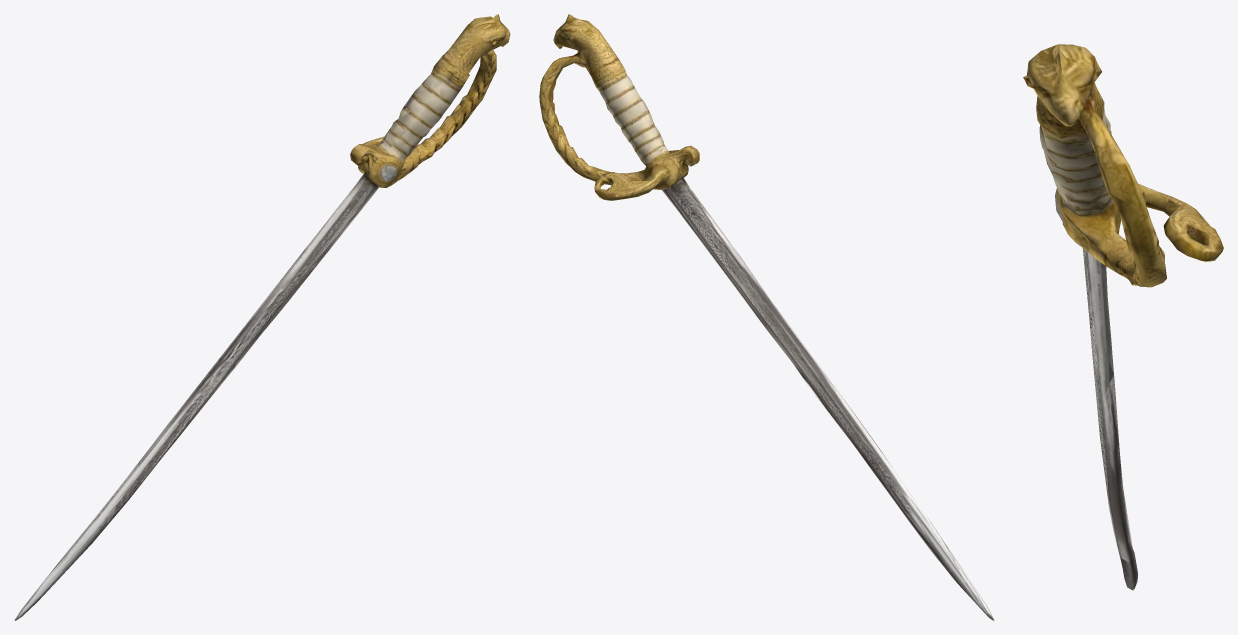
3 views of the same model, side by side, from view 1: azimuth 30°, elevation 25°; view 2: azimuth 150°, elevation 25°; view 3: azimuth 270°, elevation 25° (orthographic). The views are drawn at different scales.
Visible parts, largest first — view 1: Mesh_0; view 2: Mesh_0; view 3: Mesh_0.
Part boxes in pixels (x1=…): Mesh_0: x1=14, y1=14, x2=510, y2=620; Mesh_0: x1=539, y1=14, x2=994, y2=620; Mesh_0: x1=1023, y1=44, x2=1223, y2=590.
Size of the model in its own units: 0.9828 by 0.9982 by 0.1873.
1 material, 1 textured.
